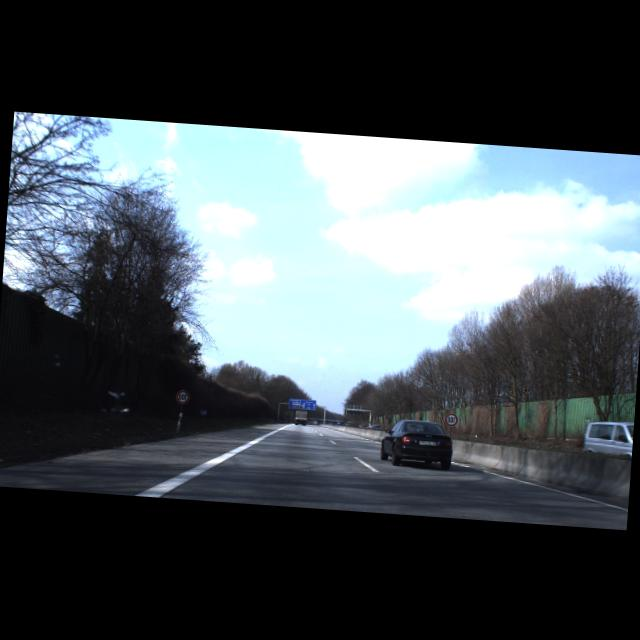prohibitory: (175, 388, 190, 403), (444, 411, 458, 426)
